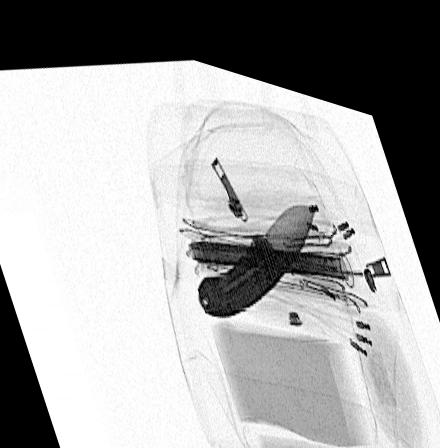Knife: (196, 183, 315, 307)
